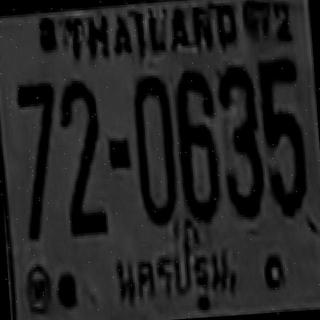N00: (130, 72, 178, 224)
N02: (57, 78, 104, 210), (60, 106, 106, 233)
N03: (216, 63, 264, 218)
N05: (256, 55, 307, 215), (256, 55, 305, 185)
N06: (173, 68, 221, 220)
N07: (15, 80, 59, 180)
P28: (107, 239, 239, 320)
